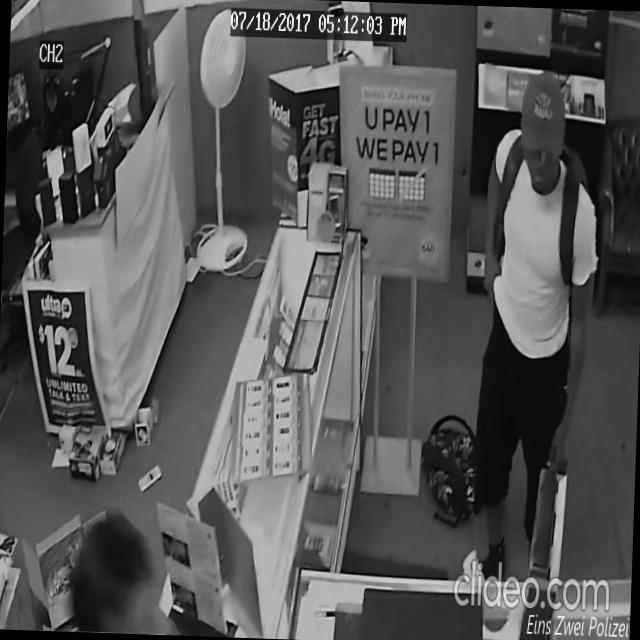gun: (482, 264, 504, 332)
person with a gun: (469, 66, 606, 587)
